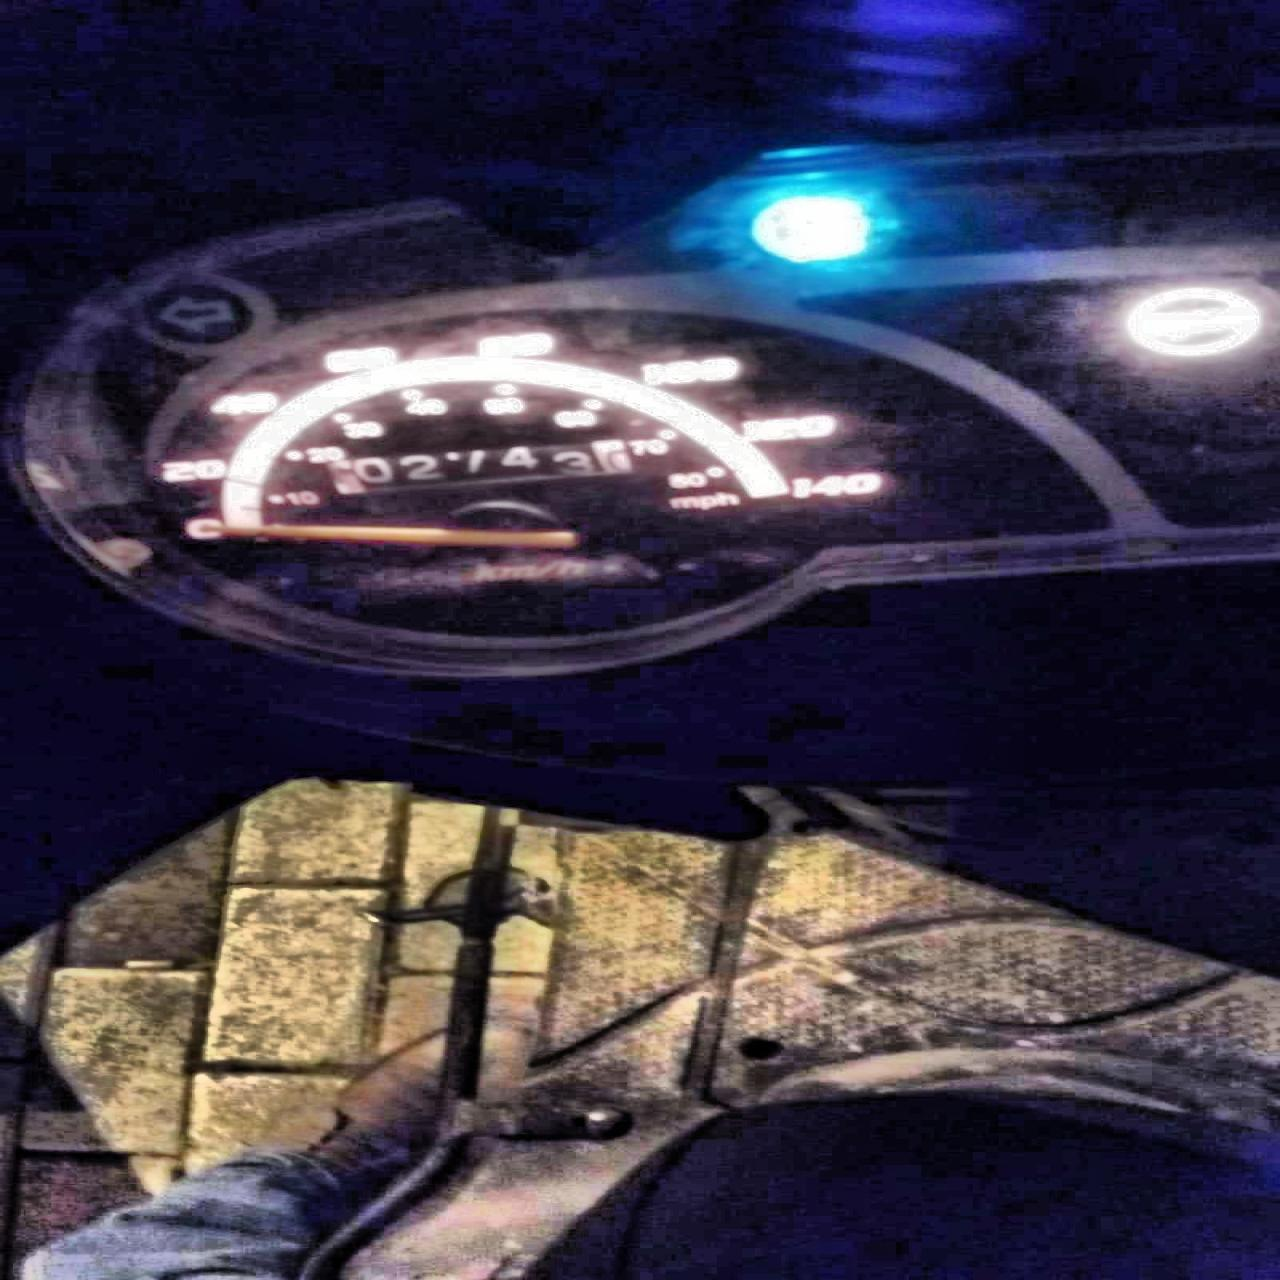0: (352, 455, 394, 484), (603, 447, 635, 482), (323, 442, 342, 461)
2: (400, 454, 445, 483)
3: (548, 448, 598, 481)
4: (499, 447, 539, 469)
7: (445, 448, 491, 475)
odometer: (326, 438, 638, 502)
